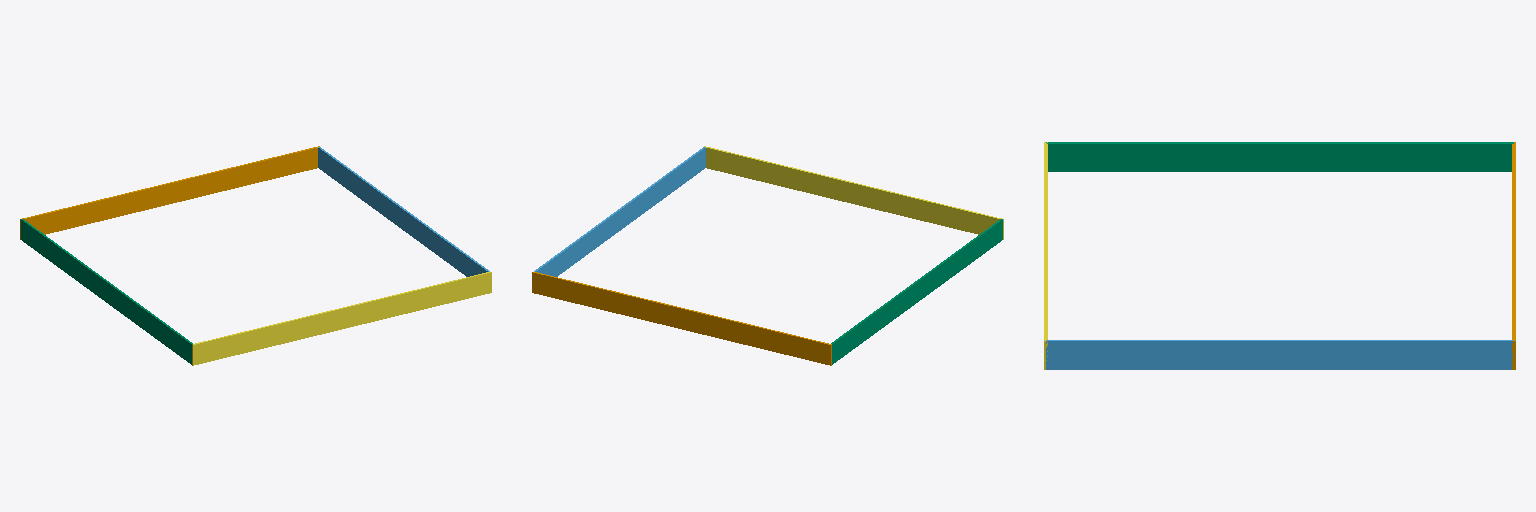
URDF robot description (room_30_30):
<?xml version="0.0" ?>
<robot name="room_30_30">
  <link name="wall_top">
    <inertial>
        <mass value="1"/>
        <inertia ixx="1" ixy="0" ixz="0" iyy="1" iyz="0" izz="1"/>
    </inertial>
    <visual>
      <geometry>
	    <box size="30.2 0.2 2"/>
      </geometry>
      <origin xyz="0 15 1"/>
    </visual>
    <collision>
      <geometry>
	    <box size="30.2 0.2 2"/>
      </geometry>
      <origin xyz="0 15 1"/>
    </collision>
  </link>

  <link name="wall_right">
    <inertial>
        <mass value="1"/>
        <inertia ixx="1" ixy="0" ixz="0" iyy="1" iyz="0" izz="1"/>
    </inertial>
    <visual>
      <geometry>
	    <box size="0.2 30 2"/>
      </geometry>
      <origin xyz="15 0 1"/>
    </visual>
    <collision>
      <geometry>
	    <box size="0.2 30 2"/>
      </geometry>
      <origin xyz="15 0 1"/>
    </collision>
  </link>


  <joint name="top_to_right" type="fixed">
    <origin xyz="0 0 0"/>
    <parent link="wall_top"/>
    <child link="wall_right"/>
  </joint>

    <link name="wall_left">
    <inertial>
        <mass value="1"/>
        <inertia ixx="1" ixy="0" ixz="0" iyy="1" iyz="0" izz="1"/>
    </inertial>
    <visual>
      <geometry>
	    <box size="0.2 30 2"/>
      </geometry>
      <origin xyz="-15 0 1"/>
    </visual>
    <collision>
      <geometry>
	    <box size="0.2 30 2"/>
      </geometry>
      <origin xyz="-15 0 1"/>
    </collision>
  </link>


  <joint name="top_to_left" type="fixed">
    <origin xyz="0.0 0.0 0.0"/>
    <parent link="wall_top"/>
    <child link="wall_left"/>
  </joint>

  <link name="wall_bottom">
    <inertial>
        <mass value="1"/>
        <inertia ixx="1" ixy="0" ixz="0" iyy="1" iyz="0" izz="1"/>
    </inertial>
    <visual>
      <geometry>
	    <box size="30.2 0.2 2"/>
      </geometry>
      <origin xyz="0 -15 1"/>
    </visual>
    <collision>
      <geometry>
	    <box size="30.2 0.2 2"/>
      </geometry>
      <origin xyz="0 -15 1"/>
    </collision>
  </link>

<joint name="right_to_bottom" type="fixed">
    <origin xyz="0.0 0.0 0.0"/>
    <parent link="wall_right"/>
    <child link="wall_bottom"/>
  </joint>


</robot>

--- Facts derived from the render (not from the file) ---
Views: 3 orthographic renders of the robot side by side, from view 1: azimuth 30°, elevation 25°; view 2: azimuth 150°, elevation 25°; view 3: azimuth 270°, elevation 25°.
Model room_30_30 with 4 links and 3 joints (3 fixed), rooted at wall_top, posed all joints at 0.
Visible links, largest first — view 1: wall_bottom, wall_top, wall_left, wall_right; view 2: wall_top, wall_bottom, wall_left, wall_right; view 3: wall_right, wall_left, wall_top, wall_bottom.
Link boxes in pixels (x1=…): wall_bottom: x1=192, y1=272, x2=491, y2=365; wall_top: x1=20, y1=146, x2=319, y2=239; wall_left: x1=21, y1=219, x2=192, y2=364; wall_right: x1=318, y1=147, x2=489, y2=276; wall_top: x1=532, y1=272, x2=831, y2=365; wall_bottom: x1=704, y1=146, x2=1003, y2=239; wall_left: x1=831, y1=219, x2=1002, y2=364; wall_right: x1=534, y1=147, x2=705, y2=276; wall_right: x1=1046, y1=340, x2=1513, y2=369; wall_left: x1=1046, y1=142, x2=1513, y2=171; wall_top: x1=1512, y1=142, x2=1515, y2=369; wall_bottom: x1=1044, y1=142, x2=1047, y2=369.
Size in the robot's own frame: 30.2 by 30.2 by 2 metres.
Geometry: primitives only (box / cylinder / sphere), no mesh files.